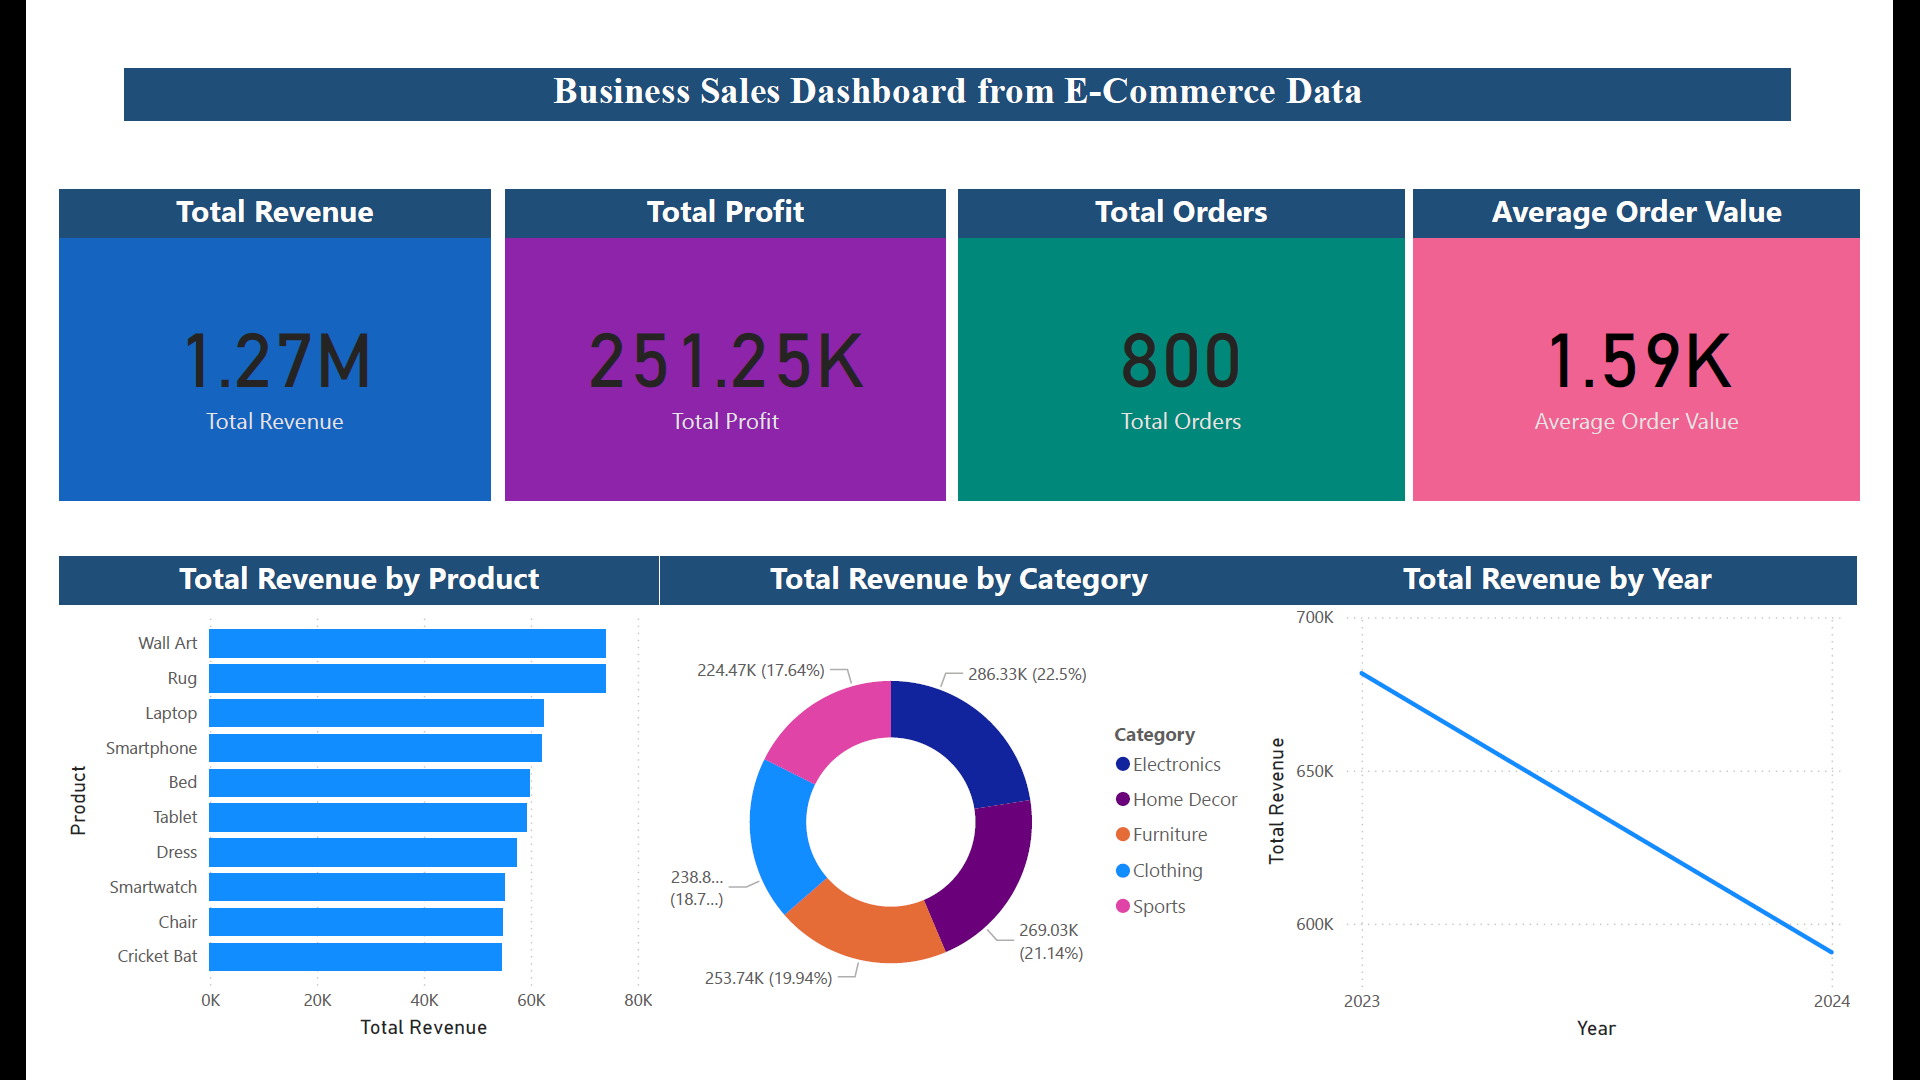

Layout of this report page (visuals, bound fields, positions):
{"tool":"powerbi","page":{"name":"Page 1","canvas":[1280,720],"ordinal":0},"visuals":[{"type":"card","title":"Total Revenue","fields":{"Values":["ecommerce sales_dataset.Total Revenue"]},"box":[0,111.1,306,220.9],"z":0},{"type":"card","title":"Total Orders","fields":{"Values":["ecommerce sales_dataset.Total Orders"]},"box":[639.5,111.1,317,220.9],"z":1000},{"type":"card","title":"Average Order Value","fields":{"Values":["ecommerce sales_dataset.Average Order Value"]},"box":[963.3,111.1,317,220.9],"z":2000},{"type":"card","title":"Total Profit","fields":{"Values":["ecommerce sales_dataset.Total Profit"]},"box":[317,111.1,312.9,220.9],"z":3000},{"type":"barChart","fields":{"Category":["ecommerce sales_dataset.Product"],"Y":["ecommerce sales_dataset.Total Revenue"]},"box":[0,372,426,347],"z":4000},{"type":"donutChart","fields":{"Category":["ecommerce sales_dataset.Category"],"Y":["ecommerce sales_dataset.Total Revenue"]},"box":[426.8,371.9,425.4,348.5],"z":5000},{"type":"lineChart","fields":{"Category":["ecommerce sales_dataset.Order Date.Variation.Date Hierarchy.Year","ecommerce sales_dataset.Order Date.Variation.Date Hierarchy.Quarter","ecommerce sales_dataset.Order Date.Variation.Date Hierarchy.Month","ecommerce sales_dataset.Order Date.Variation.Date Hierarchy.Day"],"Y":["ecommerce sales_dataset.Total Revenue"]},"box":[852.1,371.9,426,348.5],"z":6000},{"type":"textbox","title":"Business Sales Dashboard from E-Commerce Data","box":[46.3,25.2,1184.9,36.5],"z":8000}]}

Visuals, with their boxes in screenshot pixels (x1, y1, x2, y2), scaled from the page's 1280x720 canvas onto the 1920x1080 screenshot:
"Total Revenue" card: {"x1": 0, "y1": 167, "x2": 459, "y2": 498}
"Total Orders" card: {"x1": 959, "y1": 167, "x2": 1435, "y2": 498}
"Average Order Value" card: {"x1": 1445, "y1": 167, "x2": 1919, "y2": 498}
"Total Profit" card: {"x1": 476, "y1": 167, "x2": 945, "y2": 498}
barChart - ecommerce sales_dataset.Product x ecommerce sales_dataset.Total Revenue: {"x1": 0, "y1": 558, "x2": 639, "y2": 1078}
donutChart - ecommerce sales_dataset.Category x ecommerce sales_dataset.Total Revenue: {"x1": 640, "y1": 558, "x2": 1278, "y2": 1079}
lineChart - ecommerce sales_dataset.Order Date.Variation.Date Hierarchy.Year x ecommerce sales_dataset.Order Date.Variation.Date Hierarchy.Quarter: {"x1": 1278, "y1": 558, "x2": 1917, "y2": 1079}
"Business Sales Dashboard from E-Commerce Data" textbox: {"x1": 69, "y1": 38, "x2": 1847, "y2": 93}
